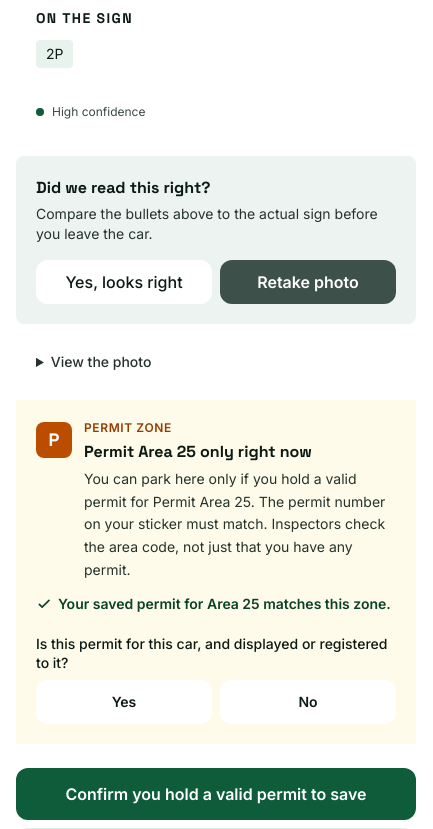
Test: the permit-zone gate › compares the saved area without ticking anything, then asks whether the permit is for this car
The image size is (433, 829).
Later steps or results of the test are not shown.
(page scrolled)
Expected: the text "Your saved permit for Area 25 matches this zone." is shown, [58, 594, 391, 614]
Expected: the button "Confirm you hold a valid permit to save" is disabled, [16, 768, 416, 820]
Click the radio button labelled "No": (308, 702) [220, 680, 396, 724]
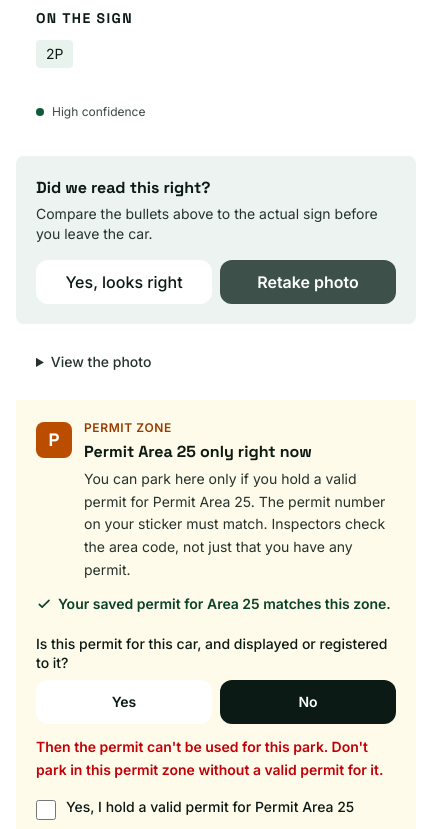
Result: the message shows "Then the permit can't be used for this park. Don't park in this permit zone without a valid permit for it." at [36, 738, 383, 778]
Click the radio button labelled "Yes": (124, 702) [36, 680, 212, 724]
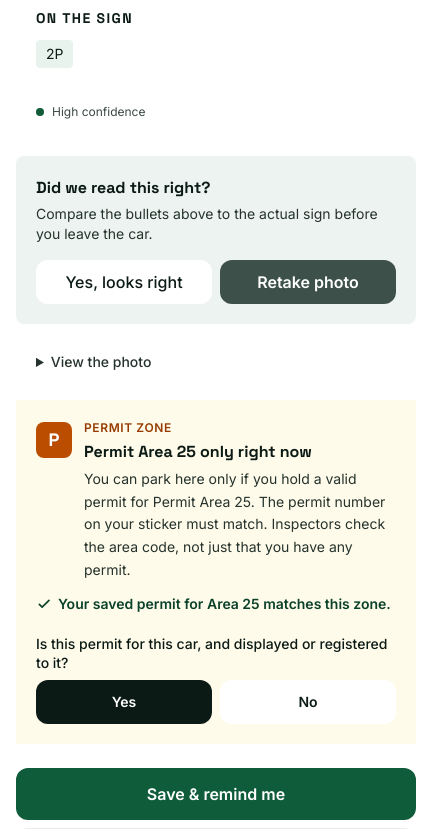
Result: the checkbox is gone
